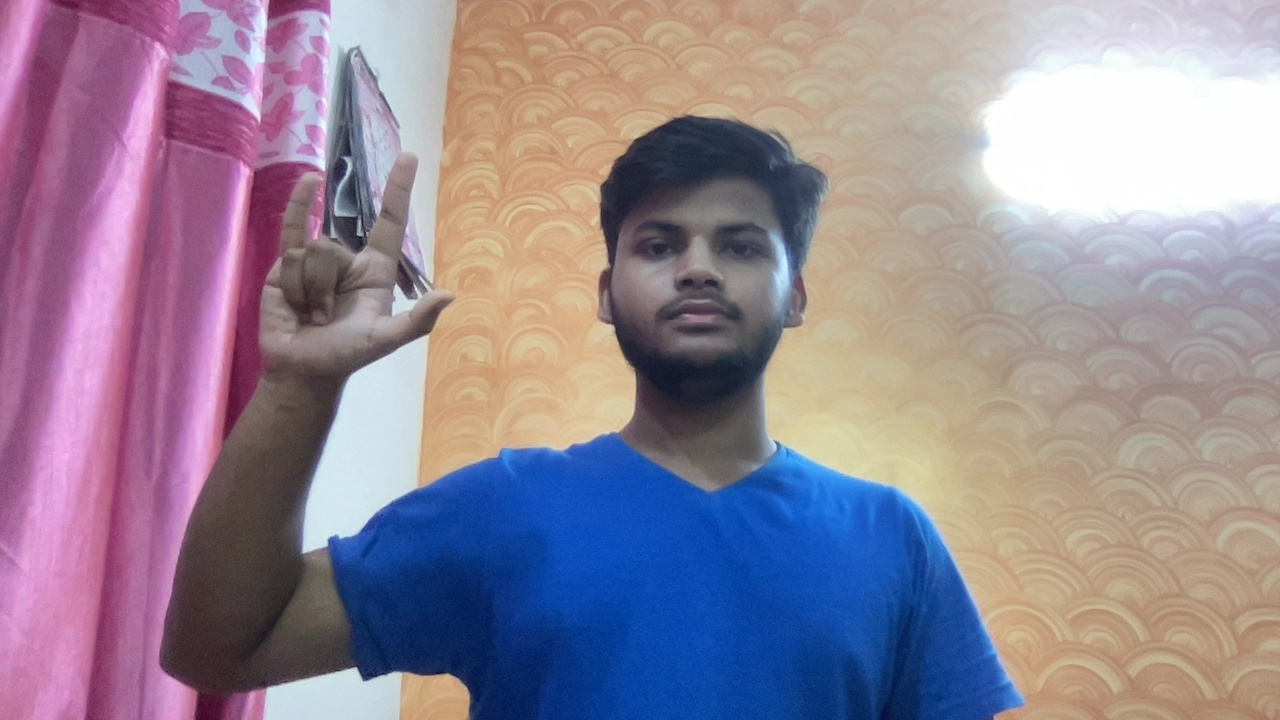iloveyou: (228, 136, 455, 411)
